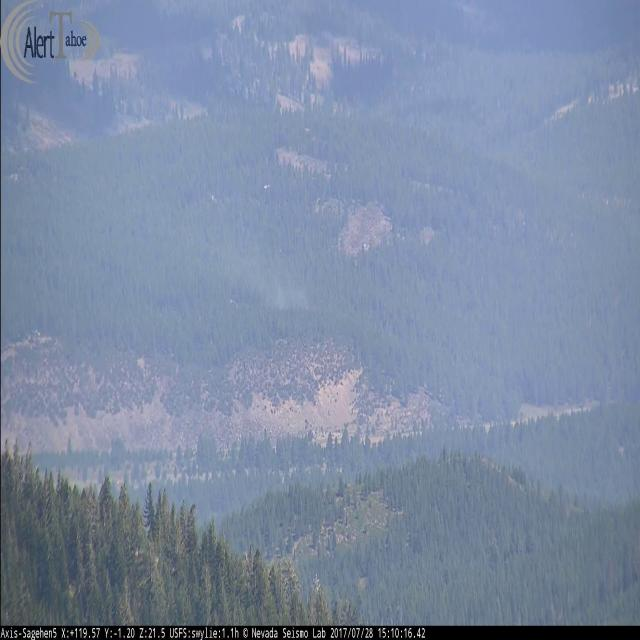smoke: (209, 216, 316, 316)
